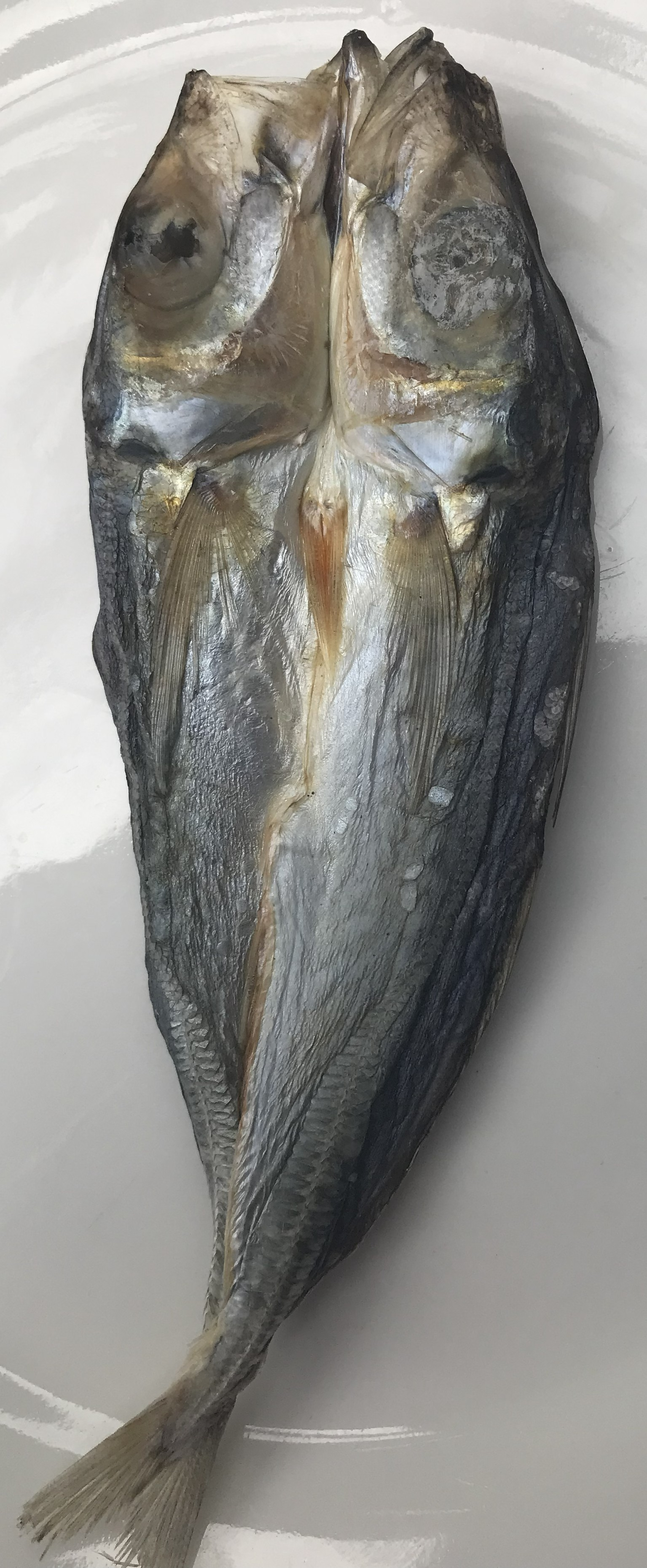barol_dried_: (16, 27, 622, 1568)
